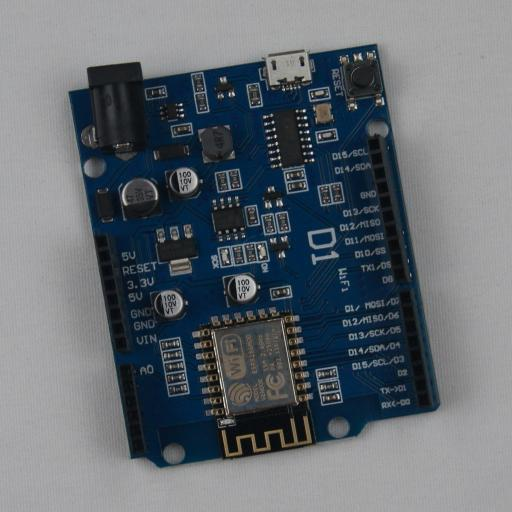Arduino Uno WiFi Shield: (69, 44, 440, 468)
